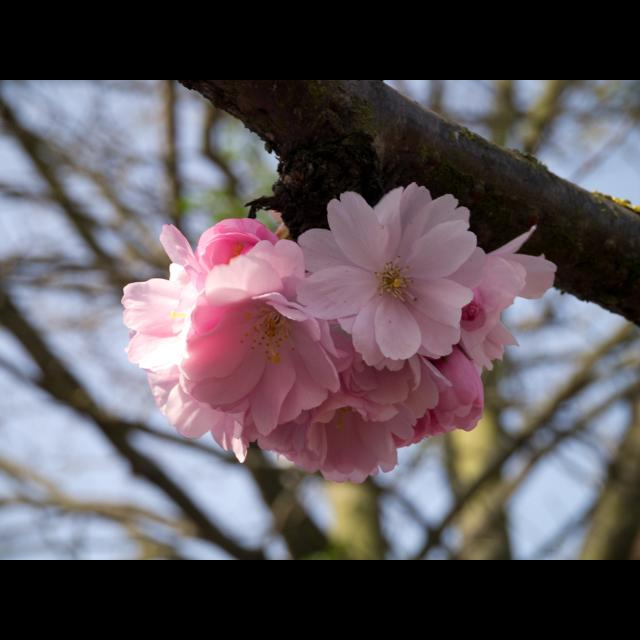Flower: (137, 177, 546, 498)
